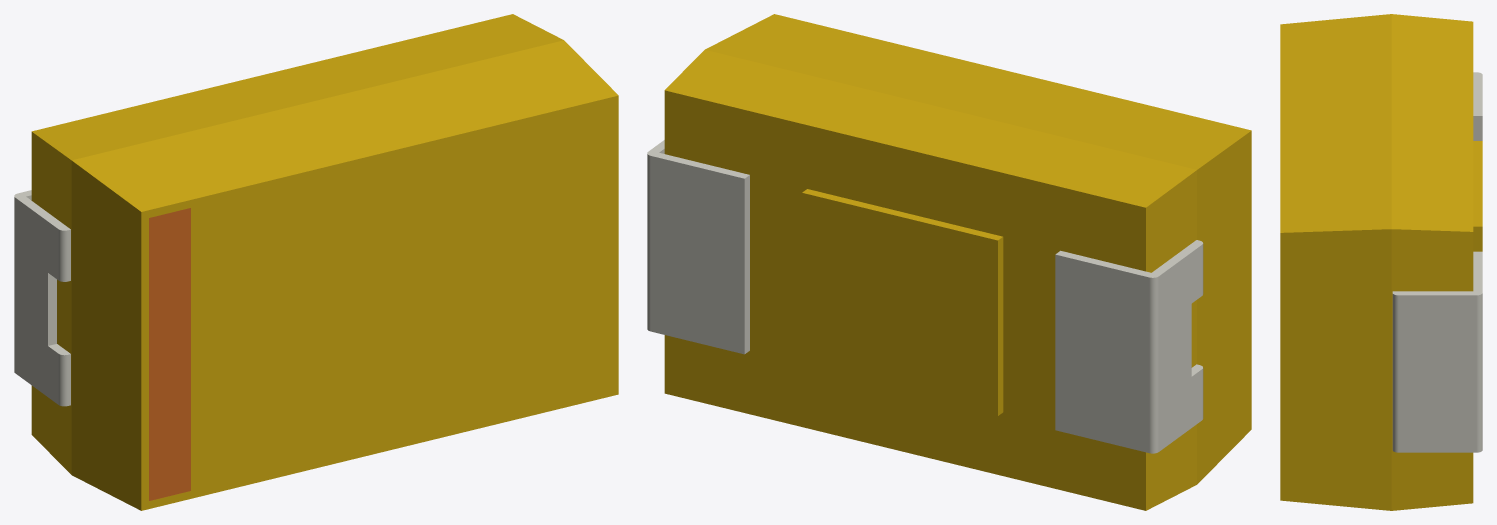
File: CP_EIA-7343-30_AVX-N-e4a240c1d57e.glb
3 renders of one model, left to right at view 1: azimuth 30°, elevation 25°; view 2: azimuth 150°, elevation 25°; view 3: azimuth 270°, elevation 25°, orthographic. The views are drawn at different scales.
Visible parts, largest first — view 1: material1, material2, material0; view 2: material1, material0; view 3: material1, material0.
Boxes of the visible parts, x1,y1,x2,y2 form: material1: [31, 14, 618, 510]; material2: [149, 208, 190, 500]; material0: [14, 190, 70, 406]; material1: [664, 14, 1251, 510]; material0: [647, 140, 1203, 453]; material1: [1280, 14, 1482, 510]; material0: [1392, 72, 1482, 452].
Size of the model in its own units: 7.3 by 4.3 by 2.8.
